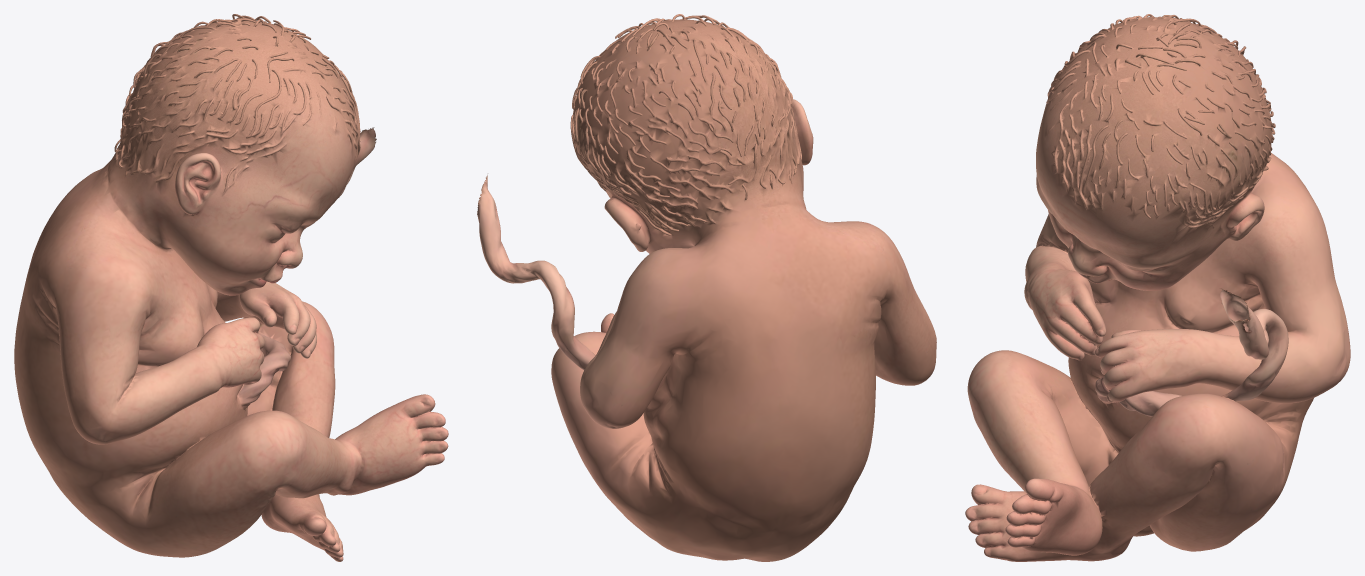
Rendered from semaine-38.glb.
3 views of the same model, side by side, from view 1: azimuth 30°, elevation 25°; view 2: azimuth 150°, elevation 25°; view 3: azimuth 270°, elevation 25° (orthographic). The views are drawn at different scales.
Bounding box in the file's own units: 1.3 × 1.68 × 1.08.
Materials: 1 (1 with a texture image).
